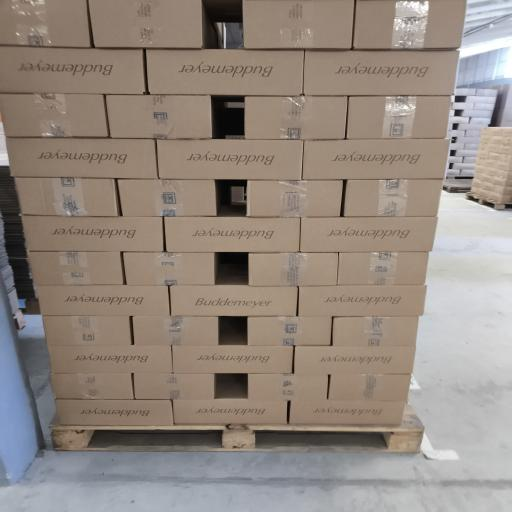pallet: (50, 405, 423, 452), (466, 194, 511, 210), (443, 179, 472, 193)
